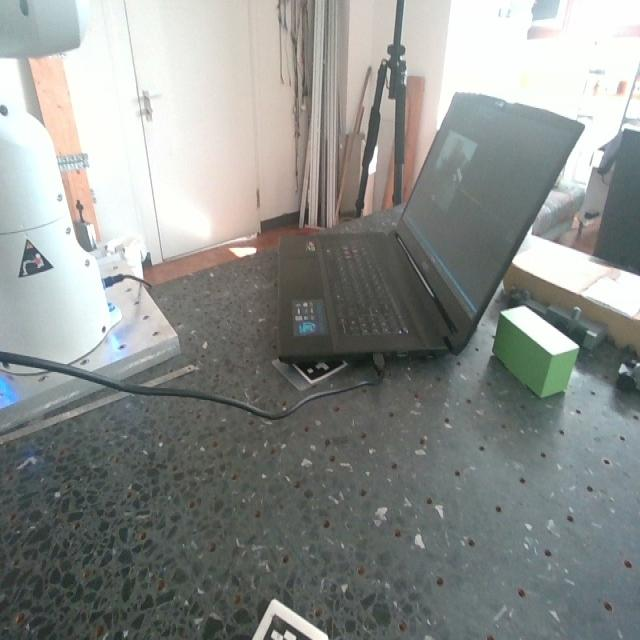Cube: (252, 597, 331, 639)
